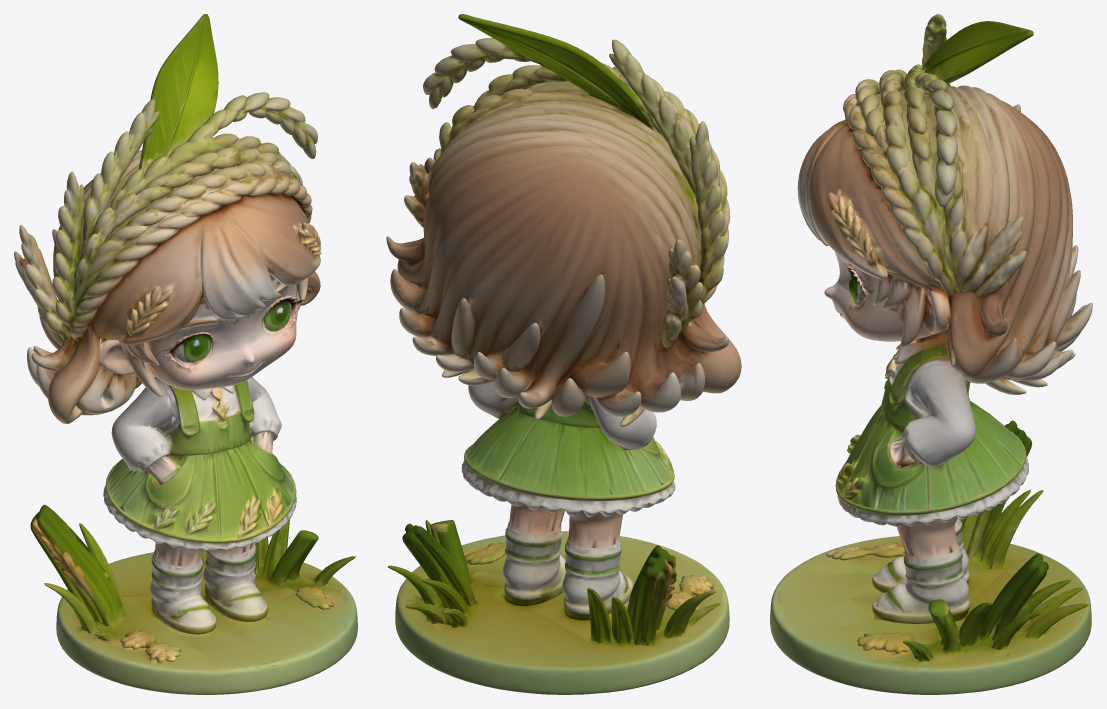
The model's file is award-12.glb.
3 renders of one model, left to right at view 1: azimuth 30°, elevation 25°; view 2: azimuth 150°, elevation 25°; view 3: azimuth 270°, elevation 25°, orthographic. The views are drawn at different scales.
Visible parts, largest first — view 1: node_0; view 2: node_0; view 3: node_0.
Part boxes in pixels (left/top/right/bottom): node_0: left=14, top=14, right=357, bottom=694; node_0: left=386, top=14, right=741, bottom=694; node_0: left=770, top=14, right=1092, bottom=694.
Bounding box in the file's own units: 0.579 × 1.07 × 0.5026.
Materials: 1 (1 with a texture image).
